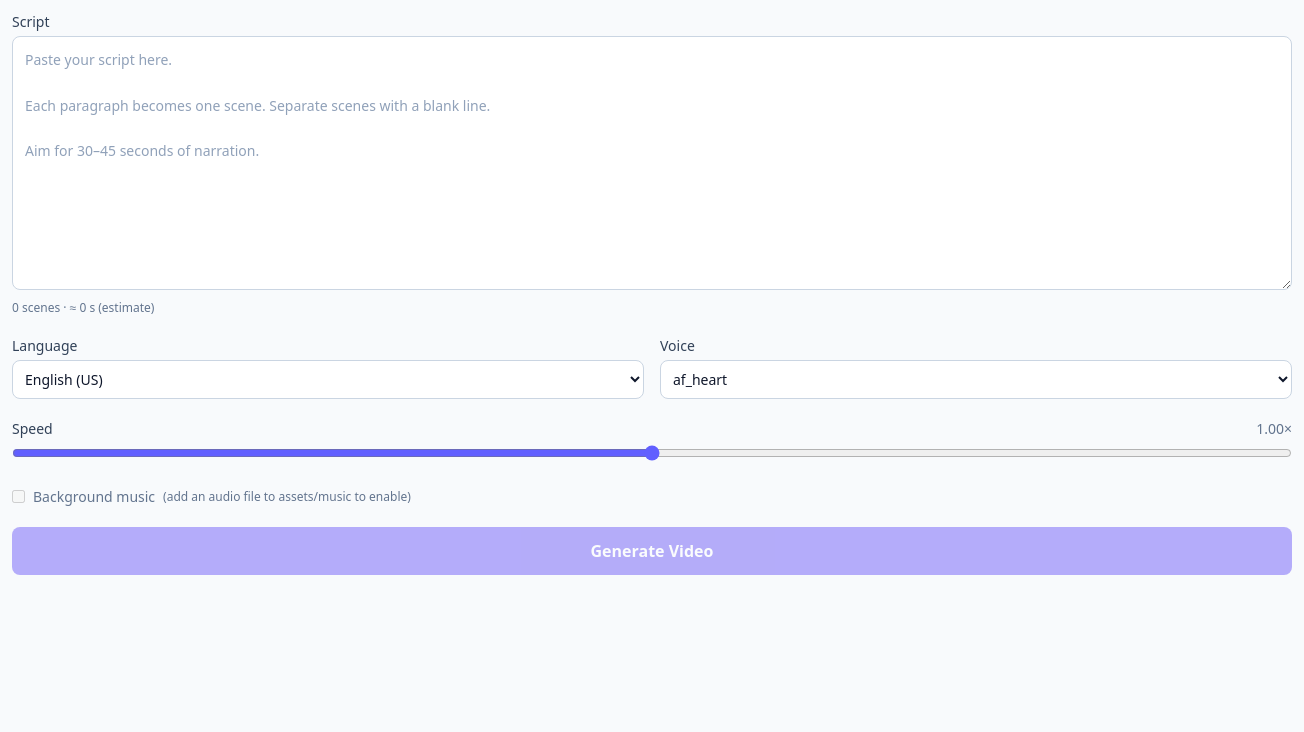
Test: ScriptForm › defaults to af_heart and switches to Hindi voices (hf_alpha default, all selectable)
The image size is (1304, 732).
Expected: the dropdown labelled "Voice" shows "af_heart", top-left (660, 360), bottom-right (1292, 398)
Select "Hindi" in the dropdown labelled "Language". click: (328, 379)
box: top-left (12, 360), bottom-right (644, 398)
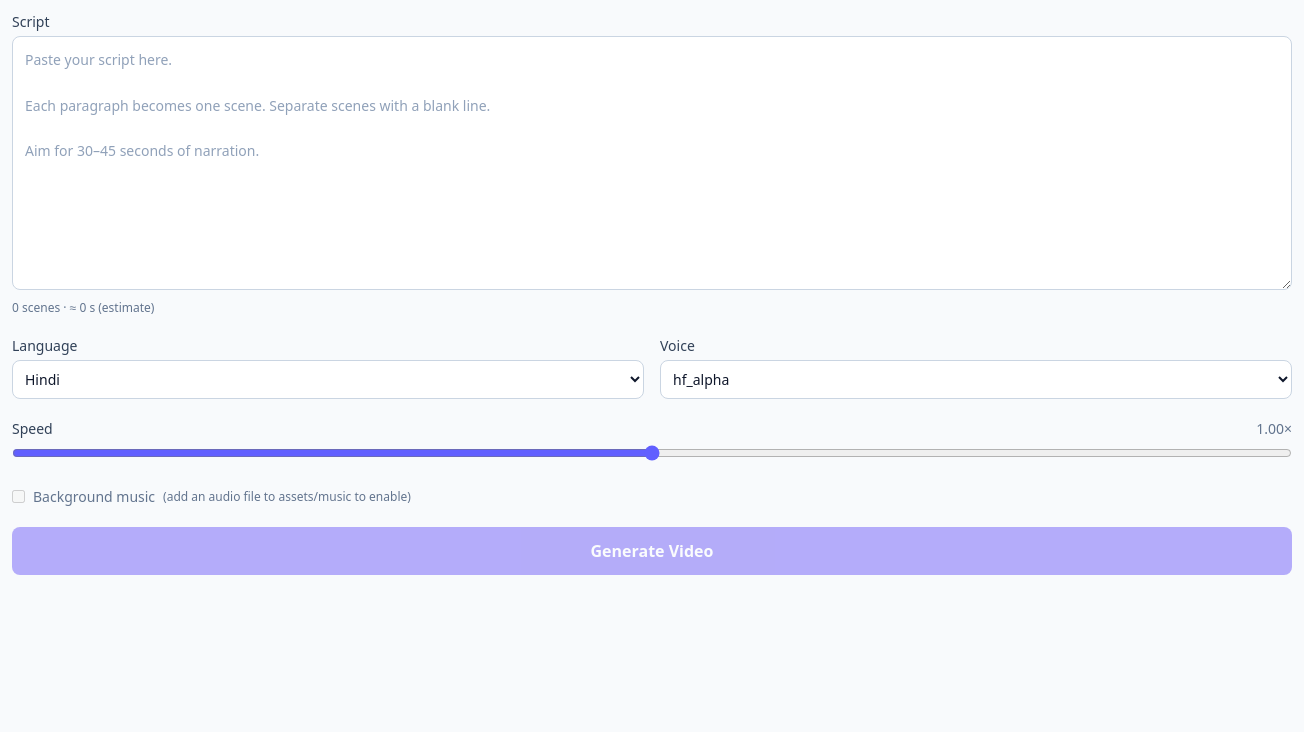
Expected: the dropdown labelled "Voice" shows "hf_alpha", top-left (660, 360), bottom-right (1292, 398)
